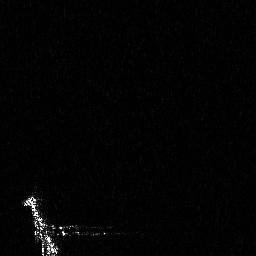ship: (22, 187, 125, 256)
